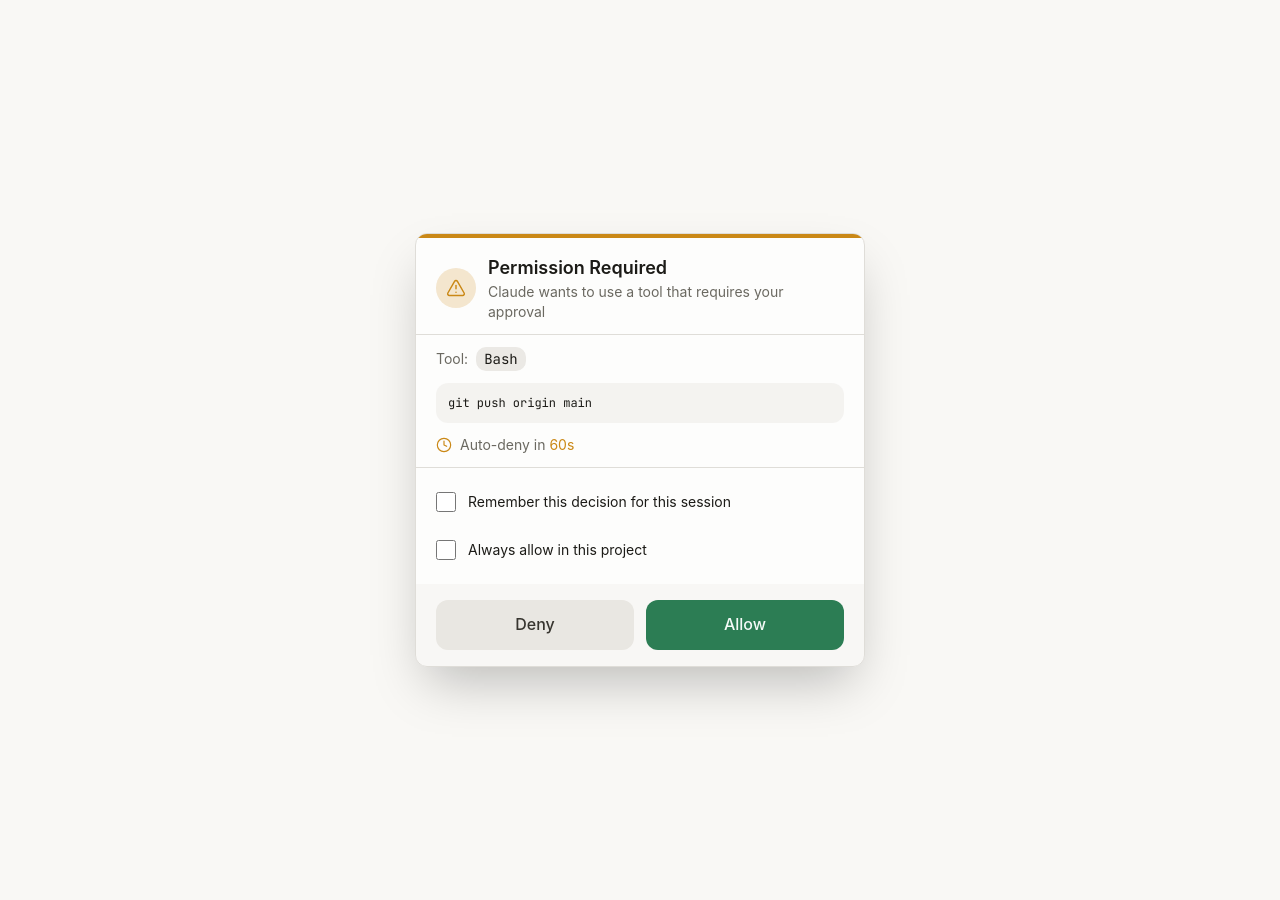
it: PermissionModal › invalid edited rule disables Allow
Step 1. Click the checkbox labelled "Always allow in this project" → (446, 550), box x1=436 y1=540 x2=456 y2=560
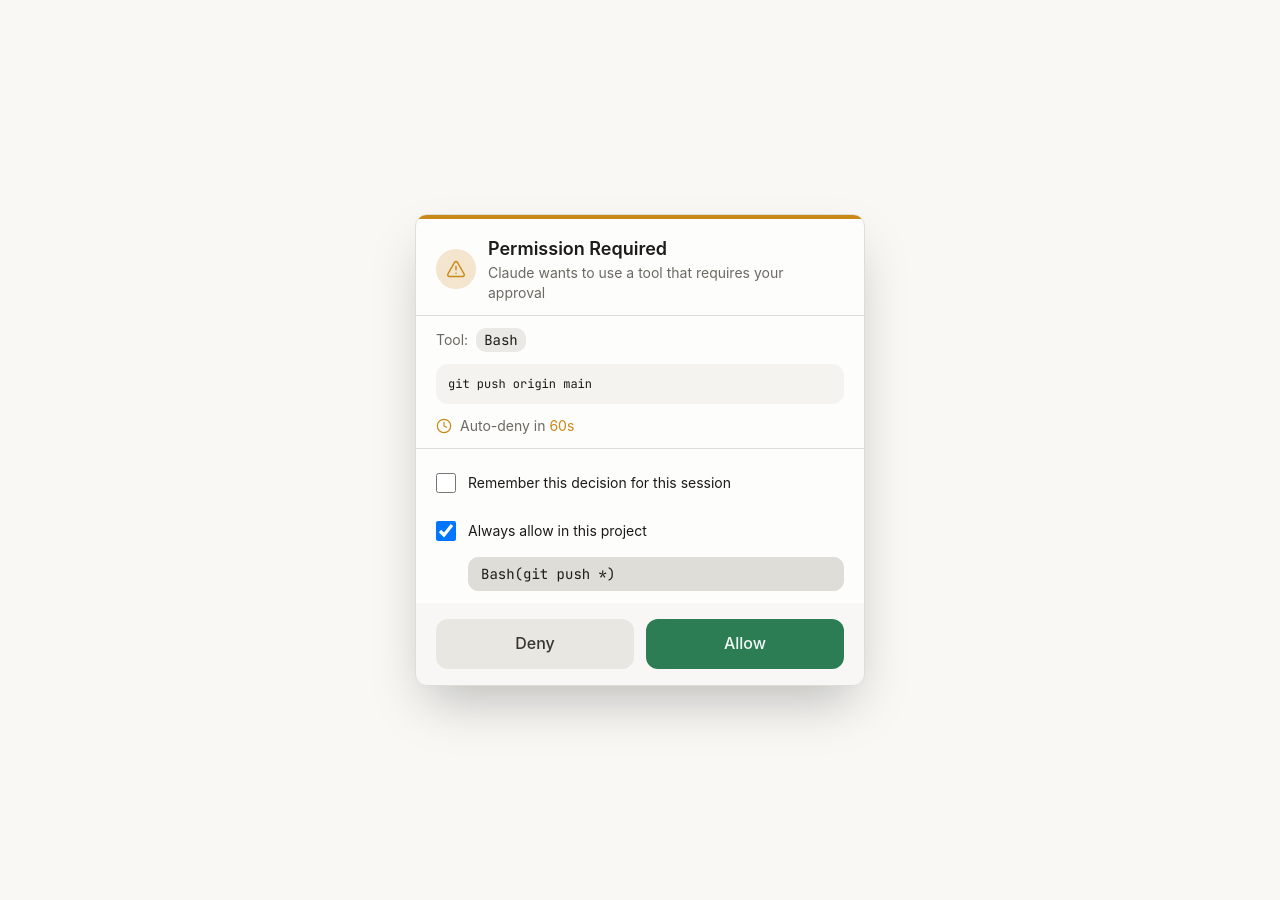
Step 2. Replace the text in the field showing "Bash(git push *)" with "Bash(broken" → (656, 574), box x1=468 y1=557 x2=844 y2=591
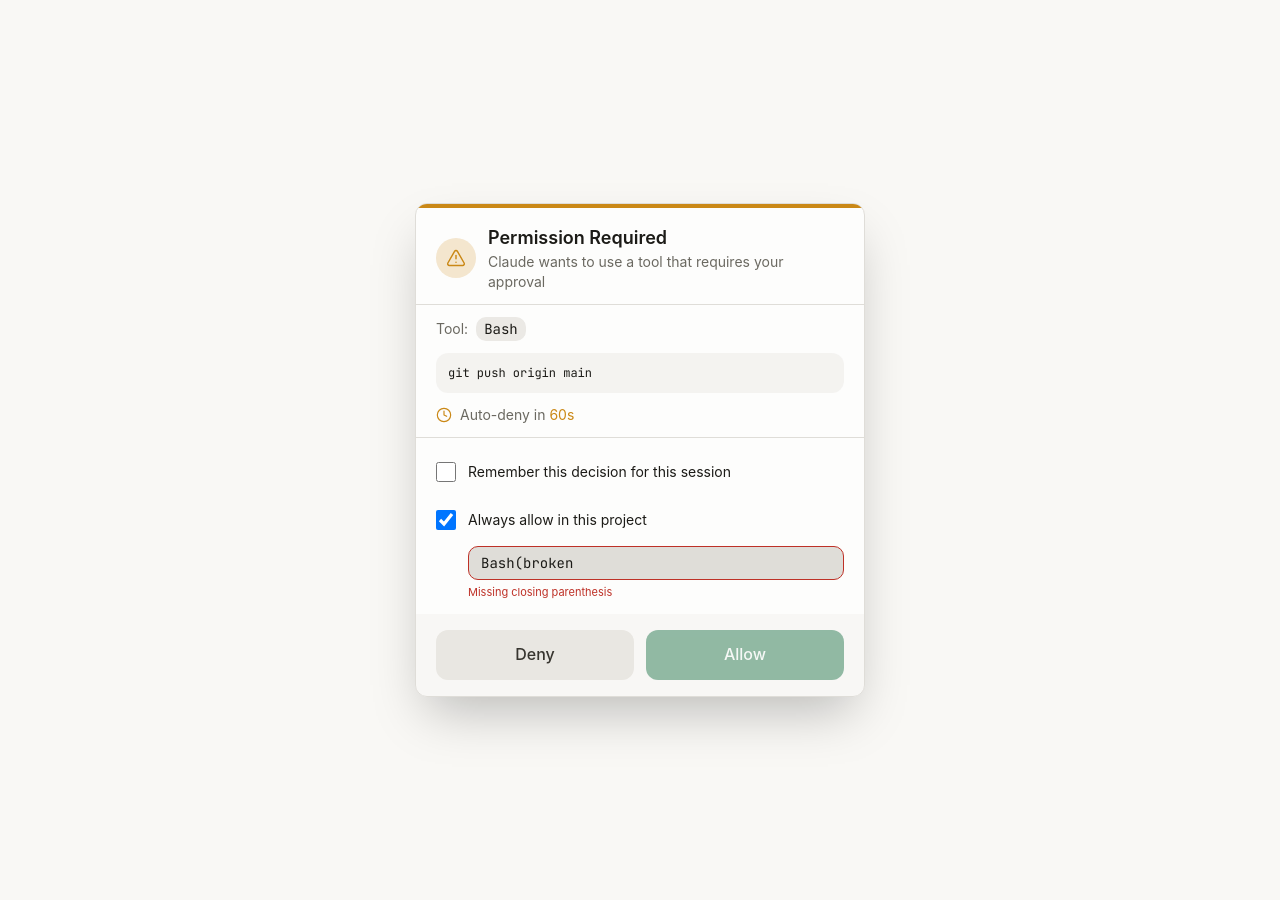
Check: the button "Allow" is disabled, box x1=646 y1=630 x2=844 y2=680
Check: the text "Missing closing parenthesis" is shown, box x1=468 y1=585 x2=612 y2=599
